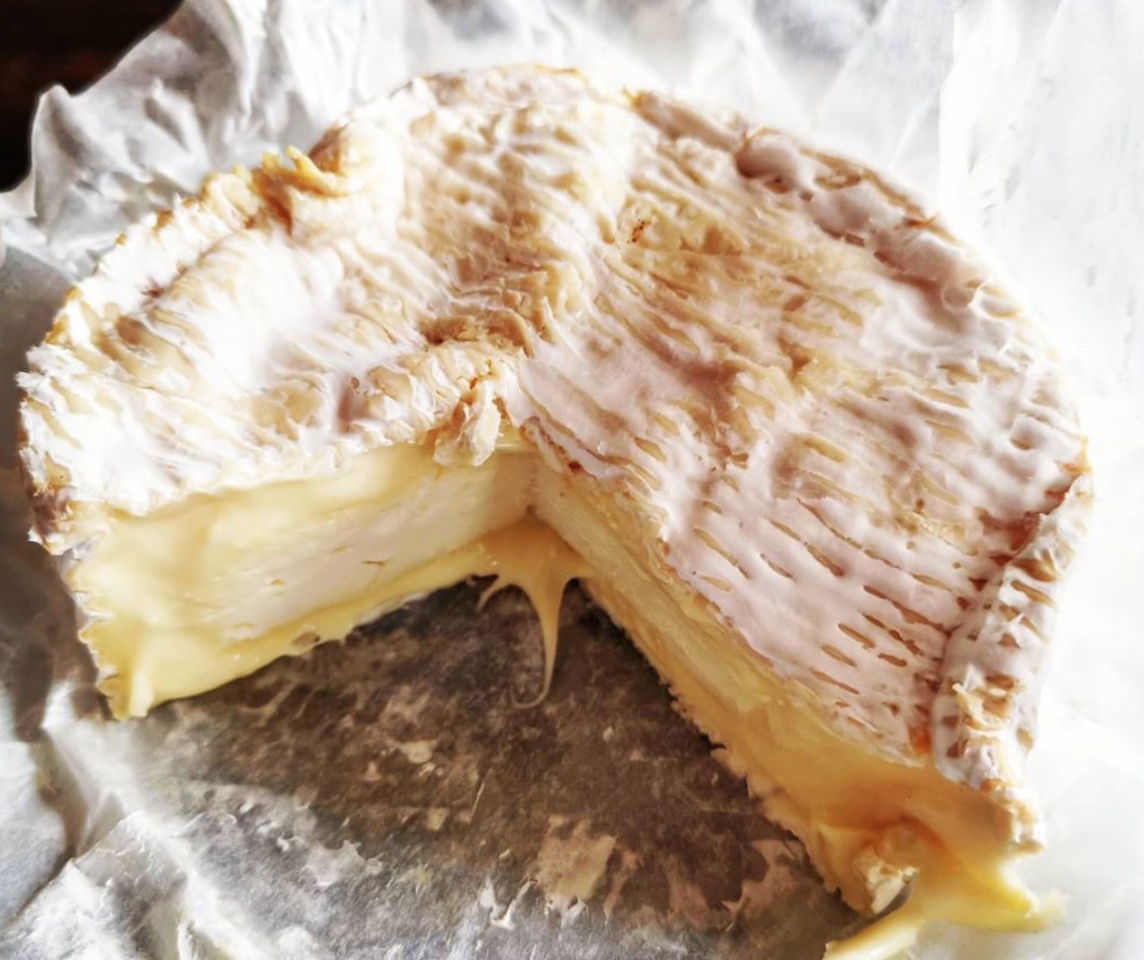camembert: (11, 51, 1101, 950)
